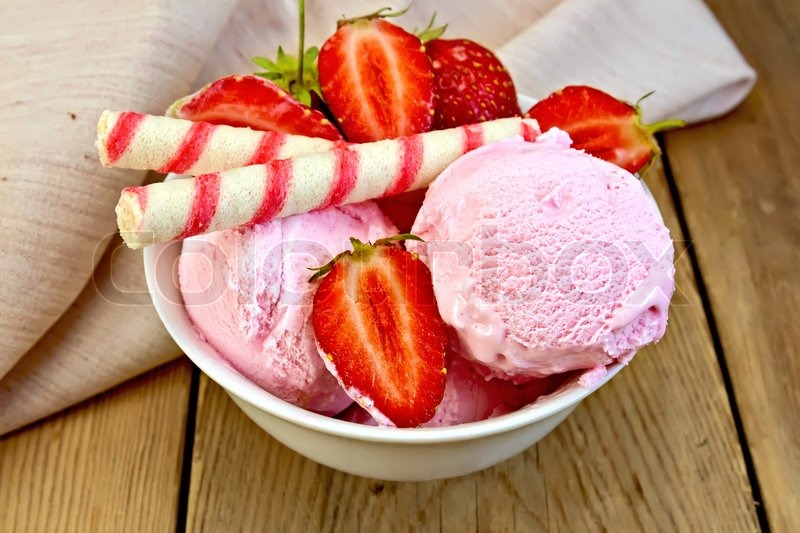ice-cream: (412, 141, 675, 369), (179, 200, 398, 417)
